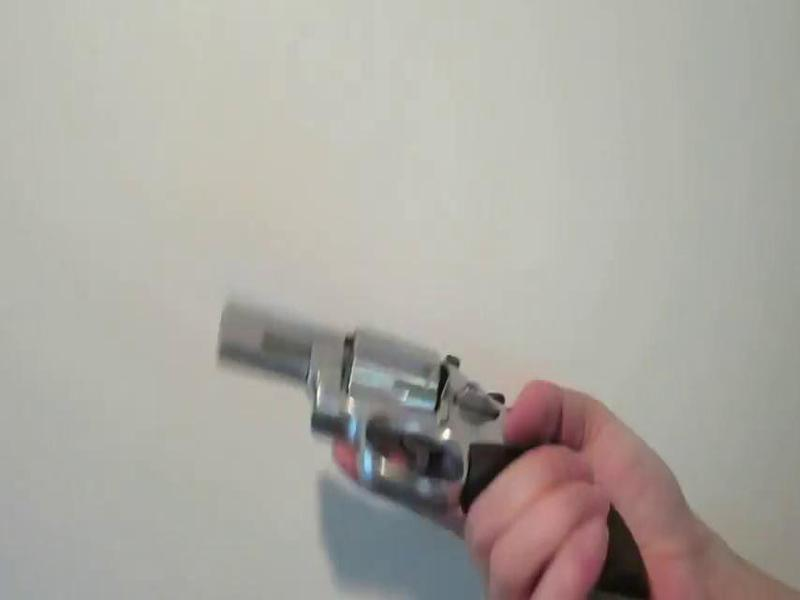Revolver: (214, 267, 665, 590)
